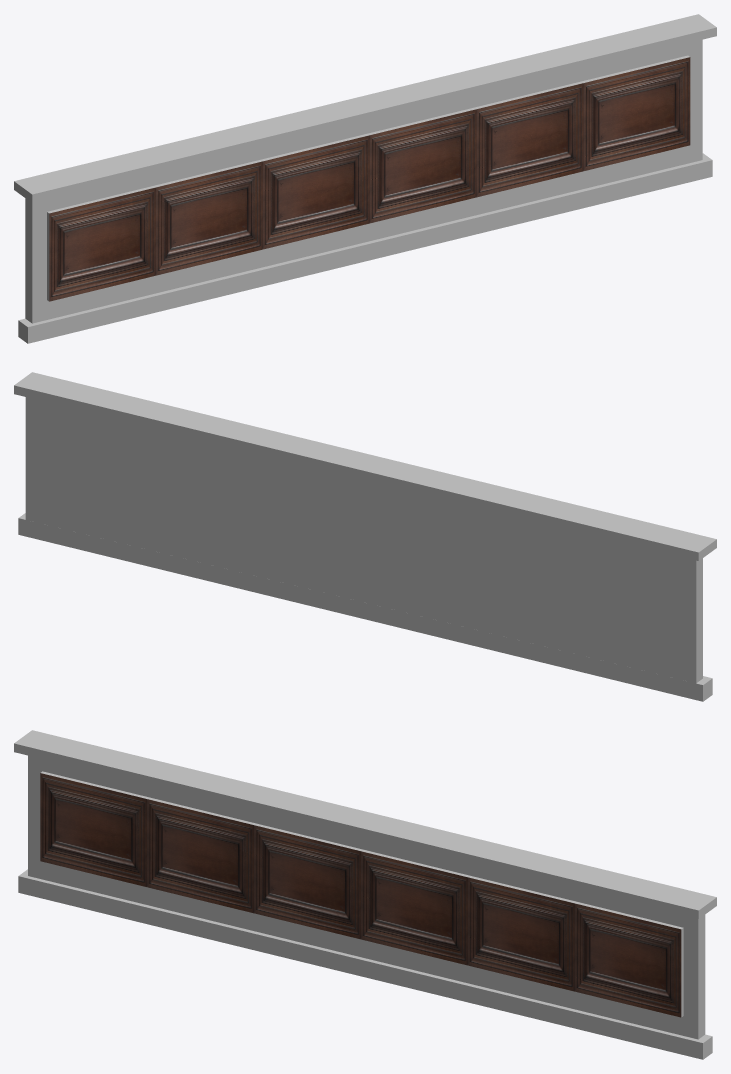
Rendered from Jury wall.FBX.
3 renders of one model, top to bottom at view 1: azimuth 30°, elevation 25°; view 2: azimuth 150°, elevation 25°; view 3: azimuth 330°, elevation 25°, orthographic.
Visible parts, largest first — view 1: jury wall; view 2: jury wall; view 3: jury wall.
Part boxes in pixels (bbox=[...]): jury wall: bbox=[14, 14, 716, 343]; jury wall: bbox=[14, 372, 716, 701]; jury wall: bbox=[14, 730, 716, 1059].
Size of the model in its own units: 448 by 95.38 by 20.64.
